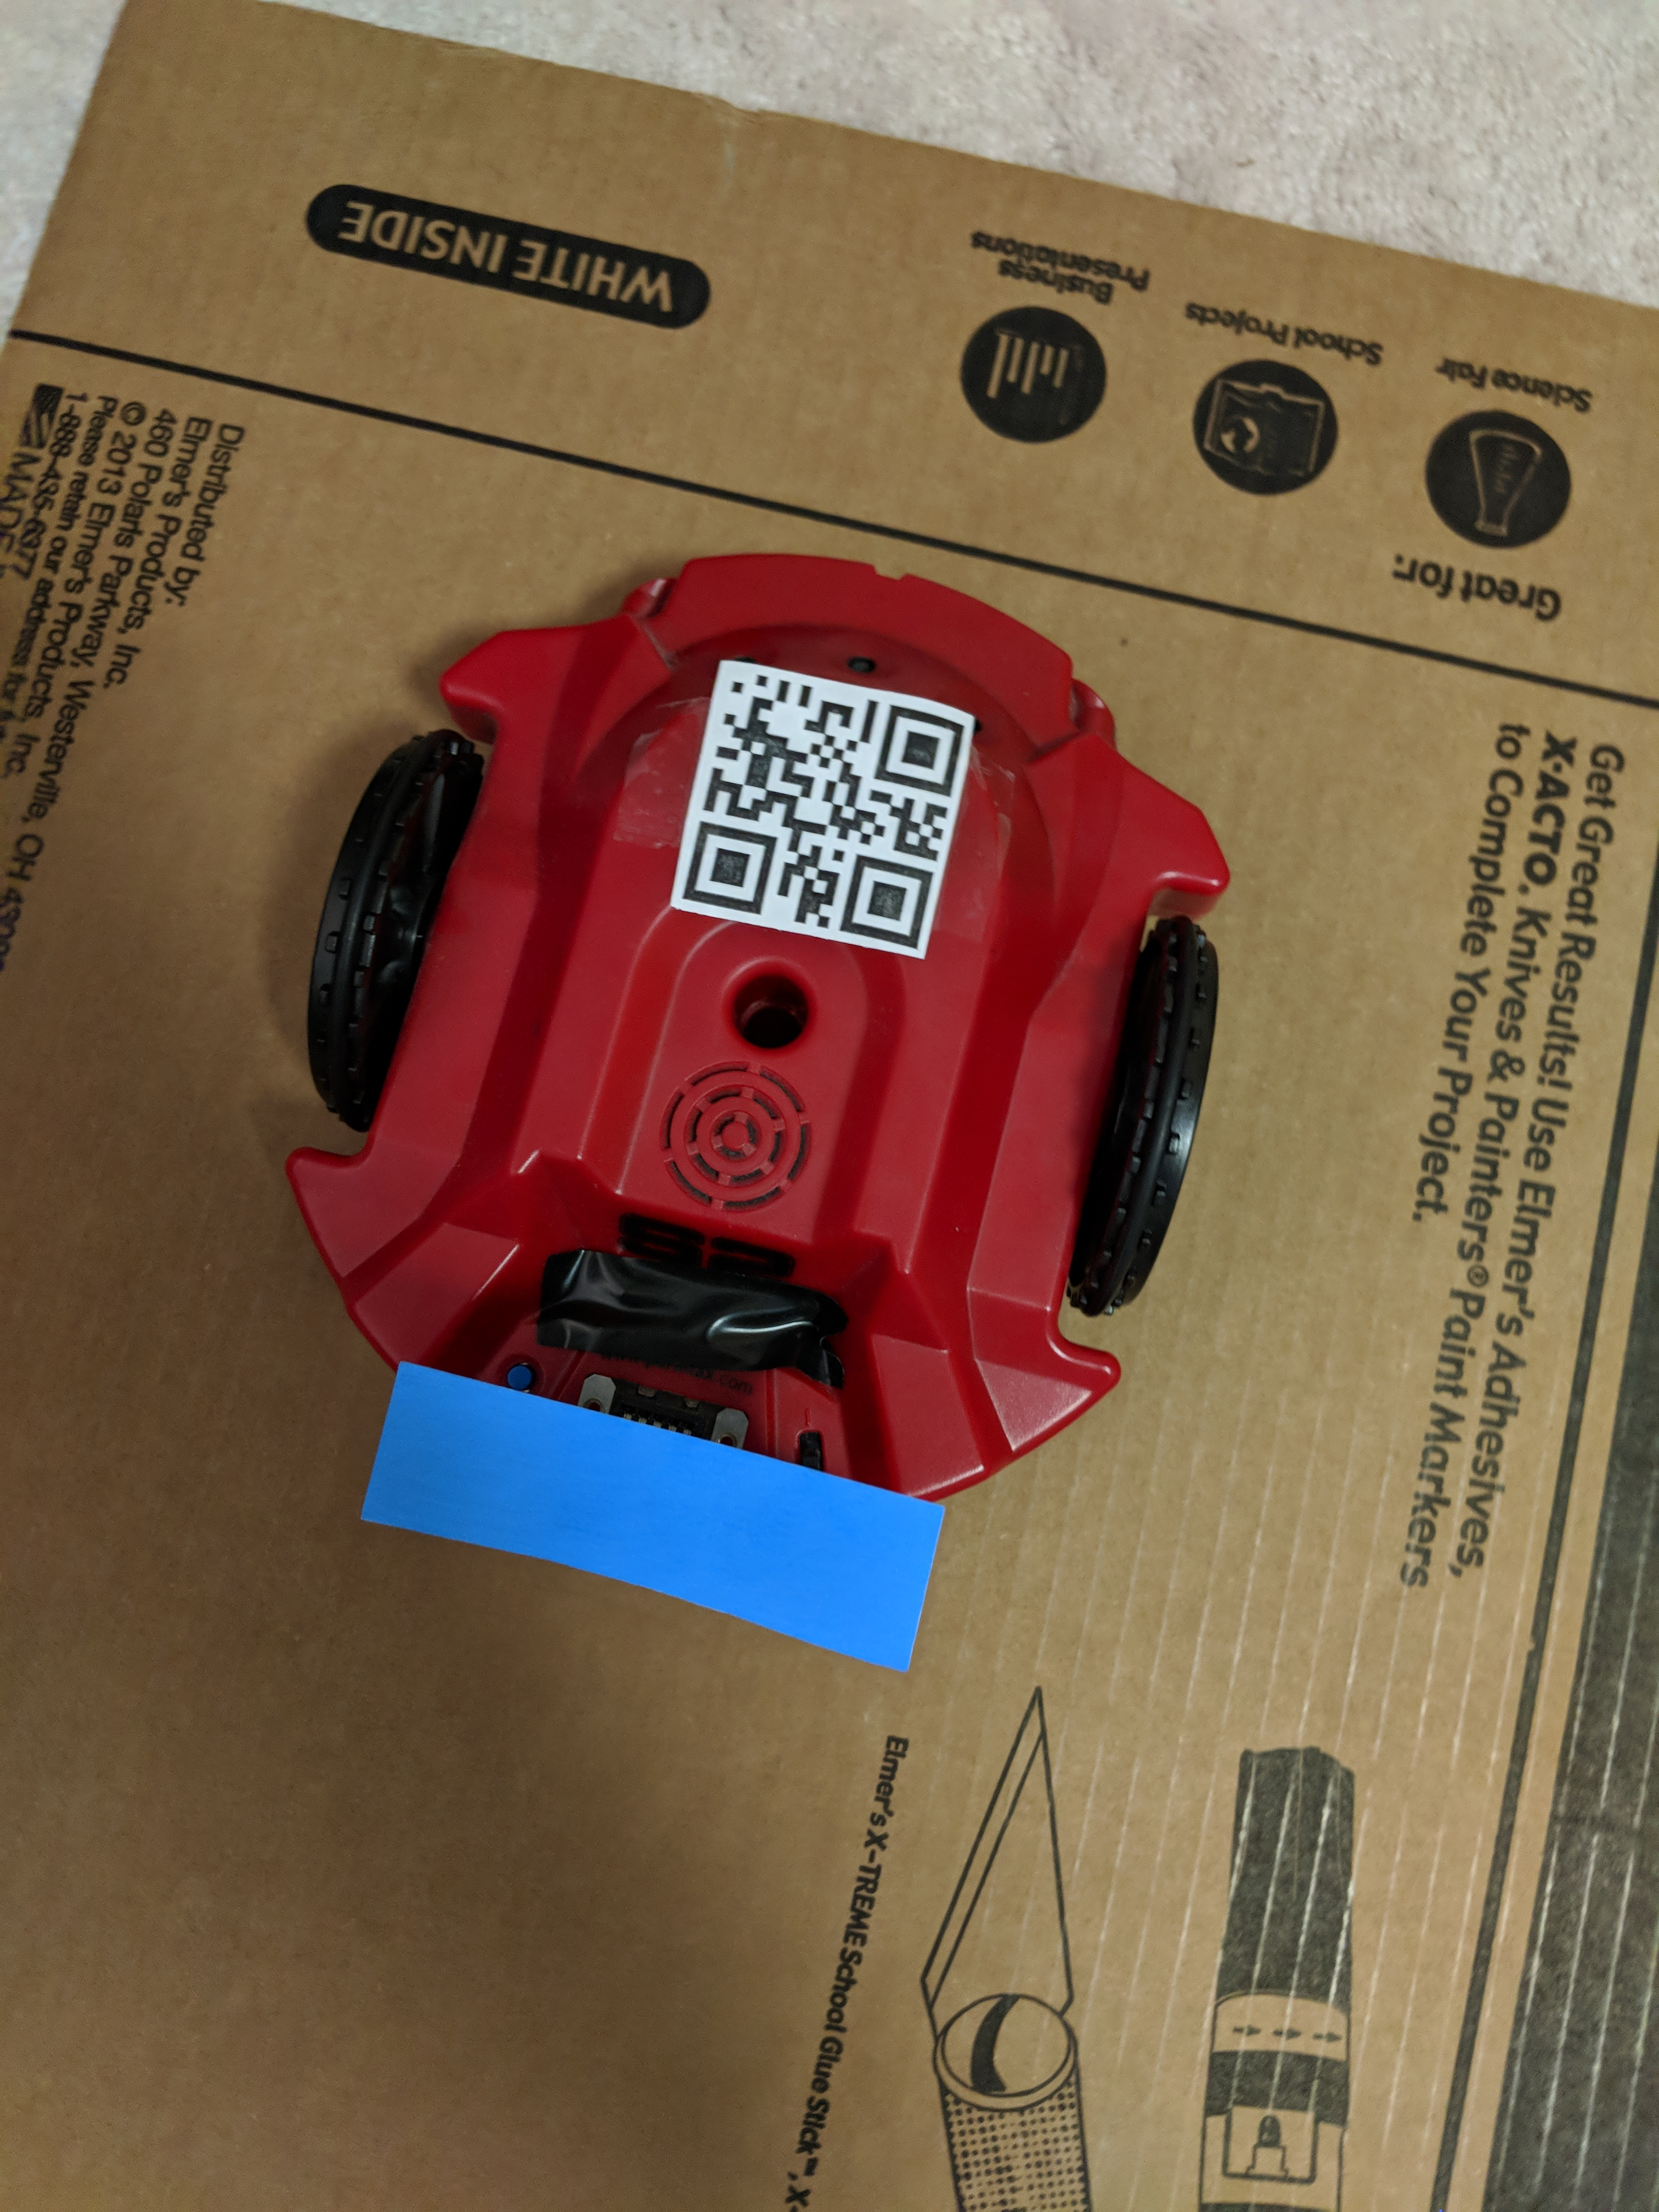chassis: (263, 524, 1232, 1693)
qr: (653, 641, 967, 963)
